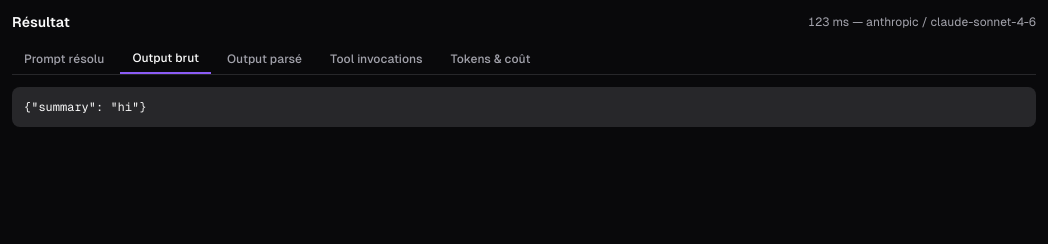
it: OutputInspector › renders tool invocations in chronological (array) order
The image size is (1048, 244).
Click the tab with test id "playground-tab-tools" at (376, 59), box [318,44,434,74]
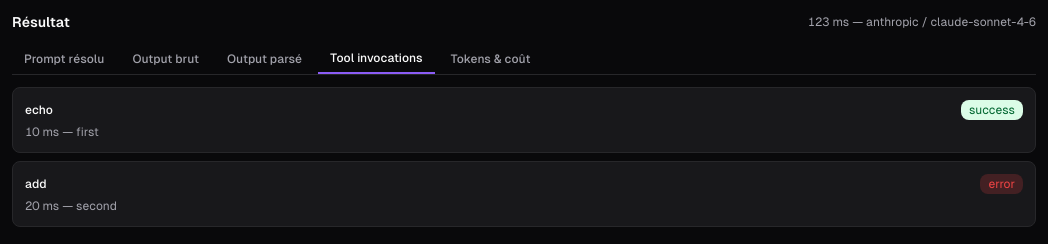
Now the text with class "font-medium" reads "echo", box [25,103,53,117]
Now the text with class "font-medium" reads "add", box [25,177,47,191]
